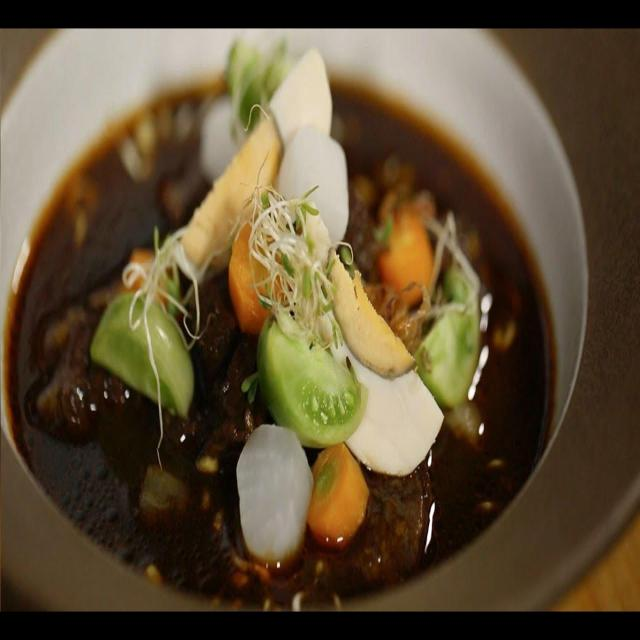Rawon: (16, 67, 547, 546)
